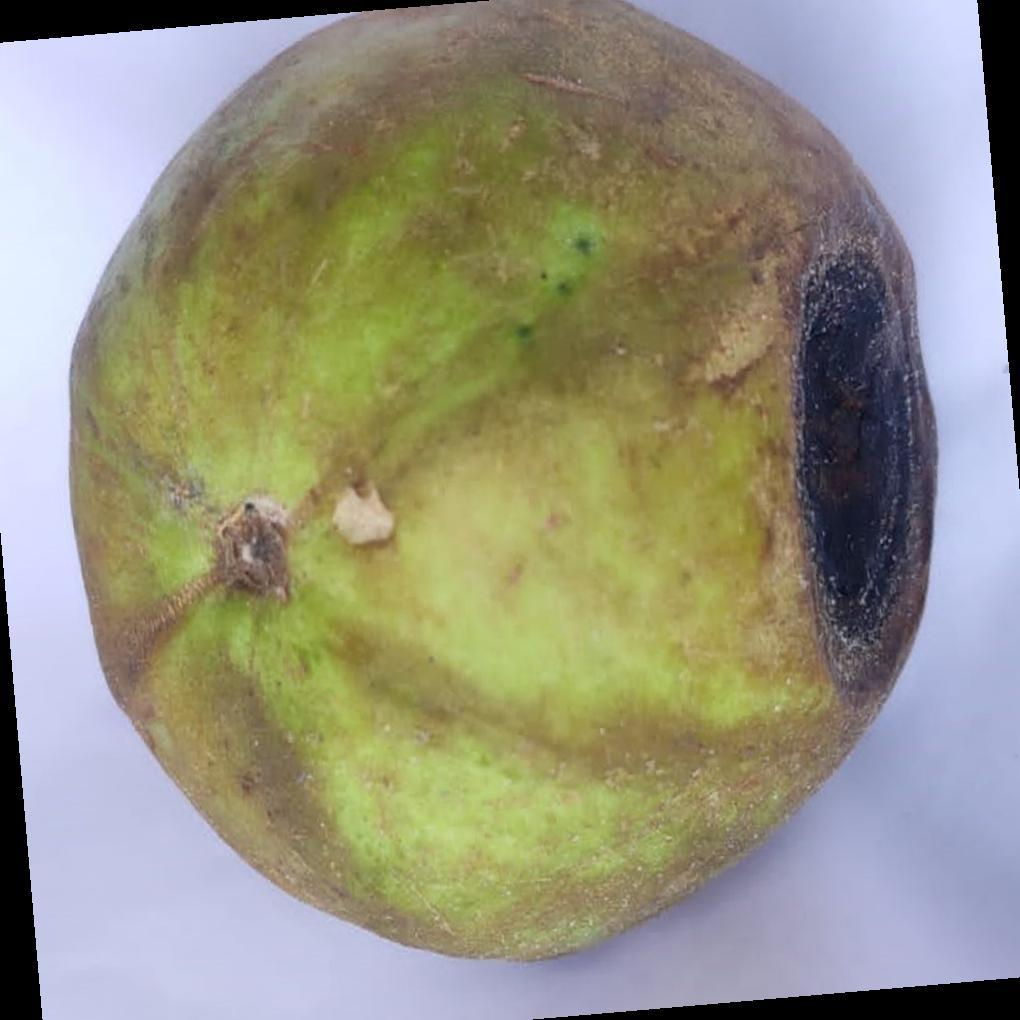FreshOrange: (67, 0, 940, 966)
